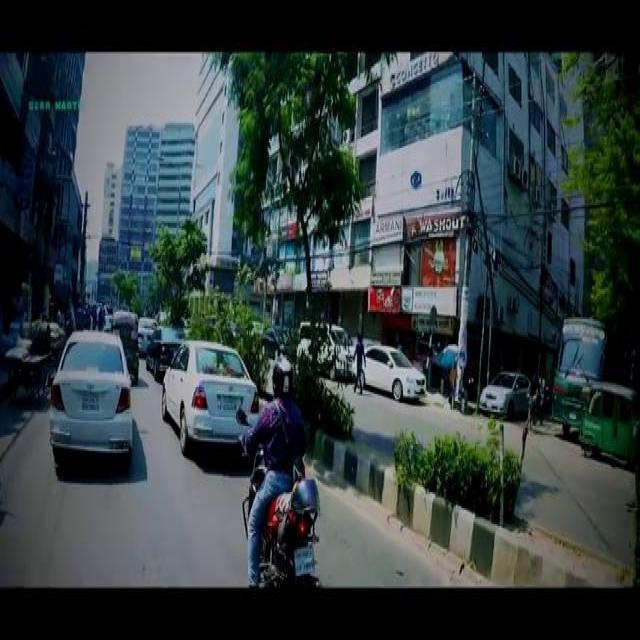10: (241, 426, 321, 583)
17: (580, 378, 638, 462), (110, 306, 138, 377), (144, 323, 184, 370)
20: (4, 333, 52, 396)
5: (49, 327, 132, 459), (160, 342, 258, 448), (352, 344, 424, 399), (478, 369, 532, 410), (138, 310, 158, 351)
9: (296, 319, 352, 367)
Truck: (549, 312, 611, 431)
